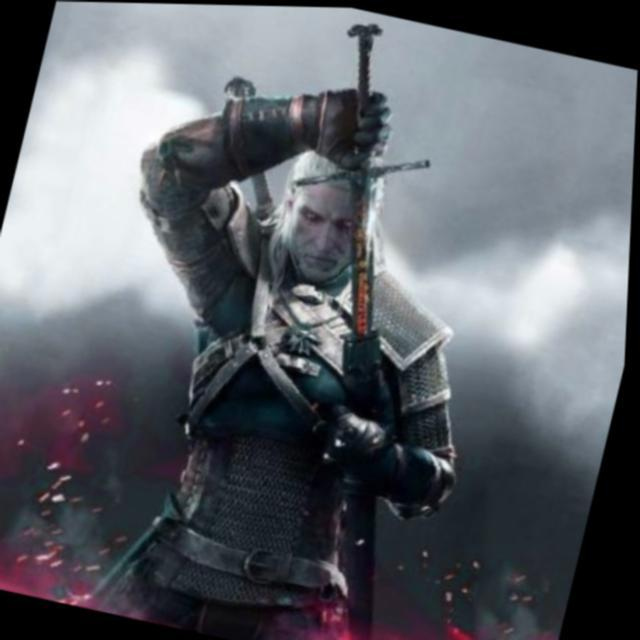weapon: (279, 21, 462, 348)
